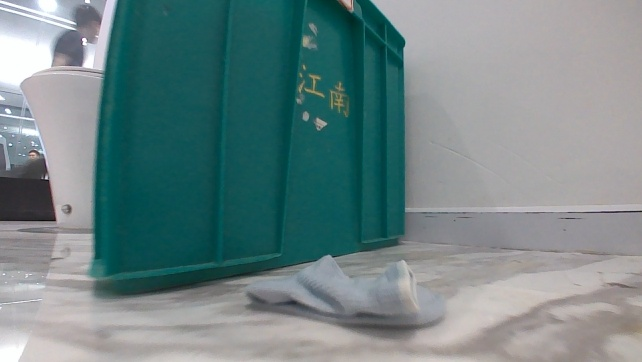socks: (241, 249, 445, 327)
toilet: (18, 63, 106, 231)
